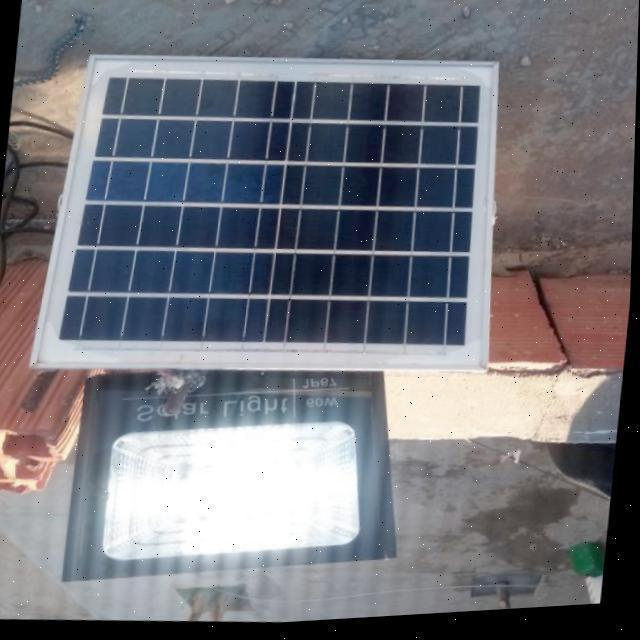Normal Solar Panel: (36, 34, 517, 400)
